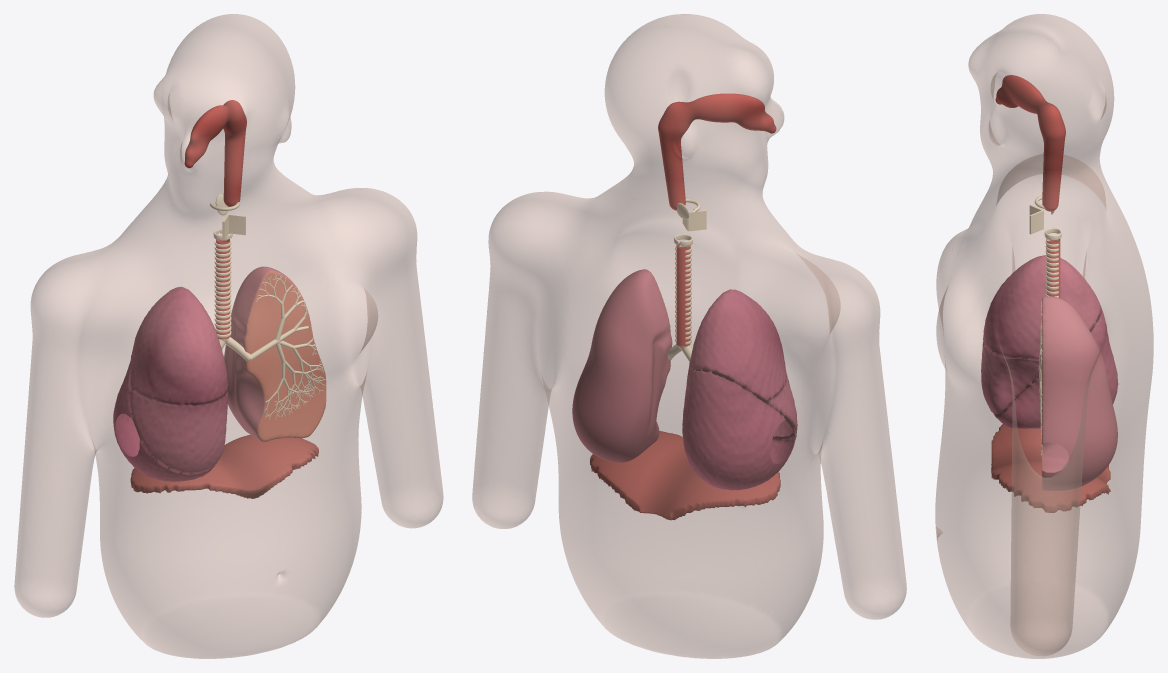
File: general.glb
3 views of the same model, side by side, from view 1: azimuth 30°, elevation 25°; view 2: azimuth 150°, elevation 25°; view 3: azimuth 270°, elevation 25° (orthographic).
Parts seen in each view (by area): view 1: body_skin, g_rul, cut_face, g_rml, diaphragm, g_rll, left_tree, g_lll, g_lul, nasal_cavity, pharynx, g_trachea; view 2: body_skin, g_rll, g_lll, diaphragm, g_rul, g_lul, nasal_cavity, pharynx, g_trachea, g_rml, nasopharynx; view 3: body_skin, g_lll, g_rul, g_lul, diaphragm, g_rml, g_rll, pharynx, nasal_cavity, nasopharynx, g_trachea.
Part boxes in pixels (left/top/right/bottom): body_skin: left=14, top=14, right=443, bottom=658; g_rul: left=130, top=286, right=227, bottom=405; cut_face: left=245, top=271, right=326, bottom=441; g_rml: left=130, top=389, right=228, bottom=472; diaphragm: left=130, top=434, right=318, bottom=498; g_rll: left=113, top=354, right=217, bottom=481; left_tree: left=250, top=273, right=326, bottom=419; g_lll: left=224, top=344, right=324, bottom=441; g_lul: left=230, top=266, right=322, bottom=379; nasal_cavity: left=184, top=103, right=237, bottom=168; pharynx: left=223, top=129, right=245, bottom=206; g_trachea: left=216, top=239, right=229, bottom=339; body_skin: left=472, top=14, right=906, bottom=658; g_rll: left=682, top=369, right=796, bottom=490; g_lll: left=572, top=339, right=666, bottom=462; diaphragm: left=590, top=431, right=780, bottom=520; g_rul: left=688, top=289, right=786, bottom=401; g_lul: left=591, top=269, right=672, bottom=377; nasal_cavity: left=684, top=93, right=776, bottom=133; pharynx: left=659, top=134, right=685, bottom=210; g_trachea: left=676, top=243, right=690, bottom=346; g_rml: left=763, top=375, right=797, bottom=438; nasopharynx: left=658, top=101, right=684, bottom=137; body_skin: left=935, top=14, right=1153, bottom=658; g_lll: left=1042, top=351, right=1117, bottom=490; g_rul: left=983, top=255, right=1101, bottom=358; g_lul: left=1042, top=296, right=1099, bottom=427; diaphragm: left=991, top=424, right=1110, bottom=512; g_rml: left=981, top=341, right=1039, bottom=414; g_rll: left=994, top=309, right=1118, bottom=428; pharynx: left=1042, top=138, right=1064, bottom=211; nasal_cavity: left=995, top=75, right=1048, bottom=121; nasopharynx: left=1038, top=103, right=1065, bottom=141; g_trachea: left=1046, top=239, right=1060, bottom=298.
Bounding box in the file's own units: 0.5737 × 0.7859 × 0.2589.
